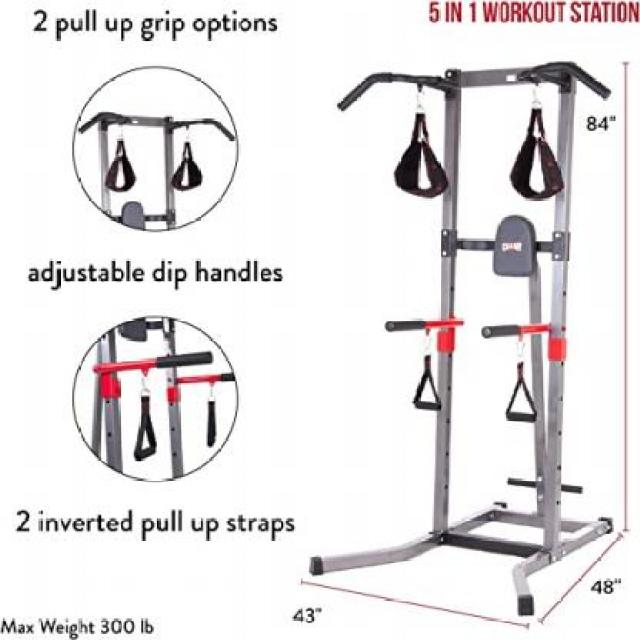chinning dipping: (312, 63, 617, 615)
